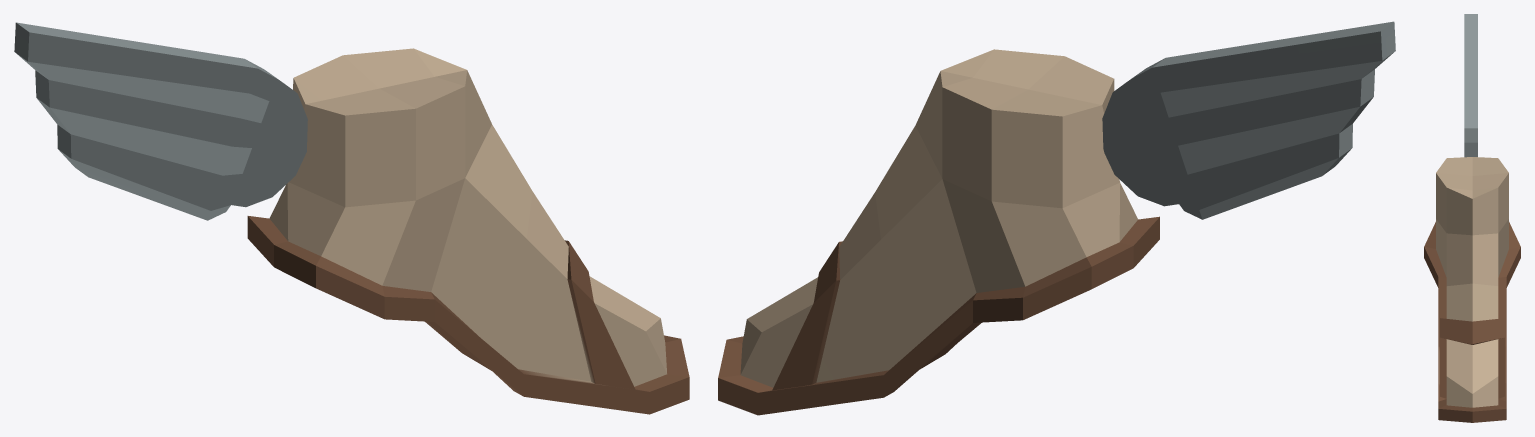
The model's file is SpeedRelic.fbx.
The picture shows the model from 3 angles, left to right: view 1: azimuth 30°, elevation 25°; view 2: azimuth 150°, elevation 25°; view 3: azimuth 270°, elevation 25°; orthographic projection. The views are drawn at different scales.
Parts seen in each view (by area): view 1: Hermes; view 2: Hermes; view 3: Hermes.
Boxes of the visible parts, left/top/right/bottom form: Hermes: left=14, top=22, right=689, bottom=414; Hermes: left=718, top=21, right=1395, bottom=415; Hermes: left=1424, top=14, right=1520, bottom=422.
Bounding box in the file's own units: 0.8403 × 0.6213 × 0.213.
